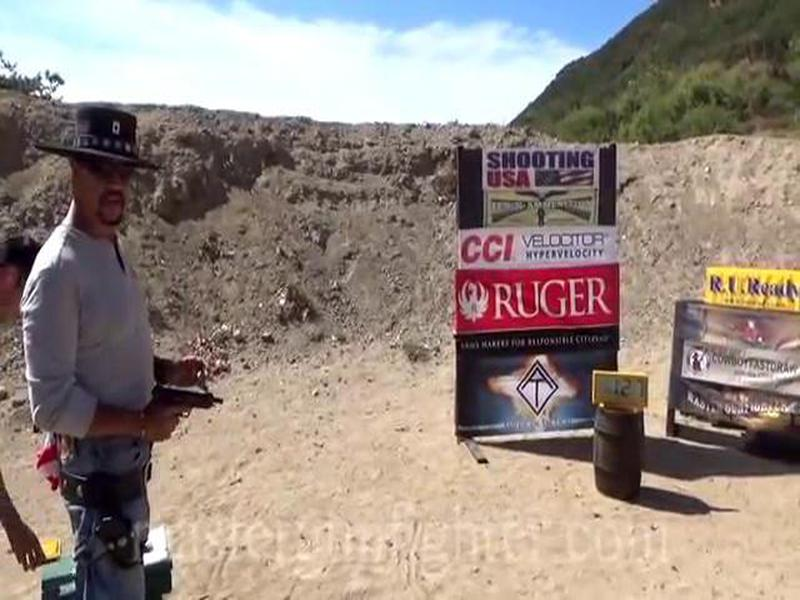Pistola: (135, 376, 234, 452)
